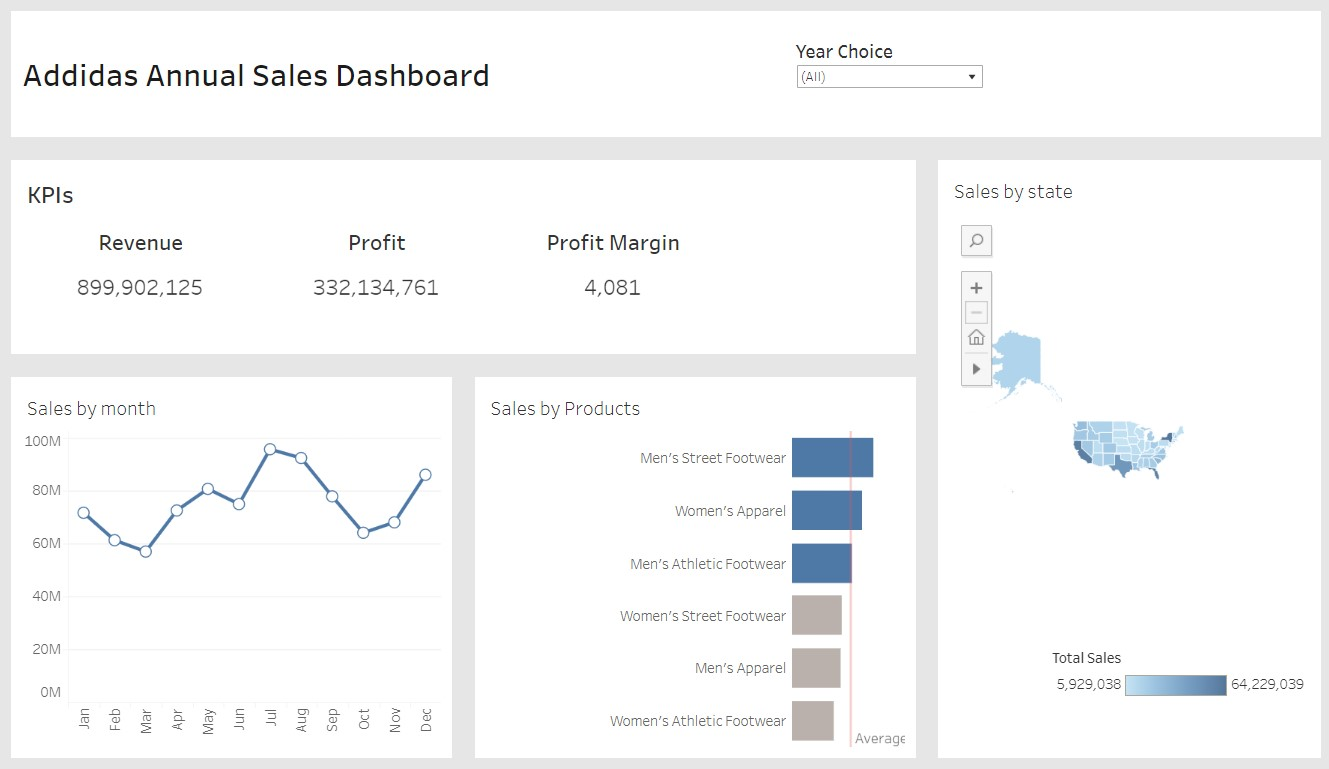

The dashboard page shown, as its layout file describes it:
{"tool":"tableau","page":{"name":"Dashboard ","canvas":[1200,700],"ordinal":0},"visuals":[{"type":"text","box":[8,8,1184,132]},{"type":"filter","title":"KPIs","param":"[federated.0wy86ey1aenwh81e30i001jbq4rh].[yr:Invoice Date:ok]","box":[715,42,168,67]},{"type":"worksheet","title":"KPIs","mark":"Automatic","box":[8,140,824,193]},{"type":"worksheet","title":"Sales by state","mark":"Automatic","box":[832,140,360,552]},{"type":"worksheet","title":"Sales by month","mark":"Line","rows":["Total Sales","Total Sales"],"cols":["Invoice Date"],"box":[8,333,412,359]},{"type":"worksheet","title":"Sales by Products","mark":"Automatic","rows":["Product"],"cols":["Total Sales"],"box":[420,333,412,359]},{"type":"legend","title":"Sales by state","param":"[federated.0wy86ey1aenwh81e30i001jbq4rh].[sum:Total Sales:qk]","box":[943,584,229,88]}]}

Visuals, with their boxes in screenshot pixels (x1, y1, x2, y2), scaled from the page's 1200x700 canvas onto the 1329x769 screenshot:
text: bbox(9, 9, 1320, 154)
"KPIs" filter: bbox(792, 46, 978, 120)
"KPIs" worksheet: bbox(9, 154, 921, 366)
"Sales by state" worksheet: bbox(921, 154, 1320, 760)
"Sales by month" worksheet (Line marks): bbox(9, 366, 465, 760)
"Sales by Products" worksheet: bbox(465, 366, 921, 760)
"Sales by state" legend: bbox(1044, 642, 1298, 738)
